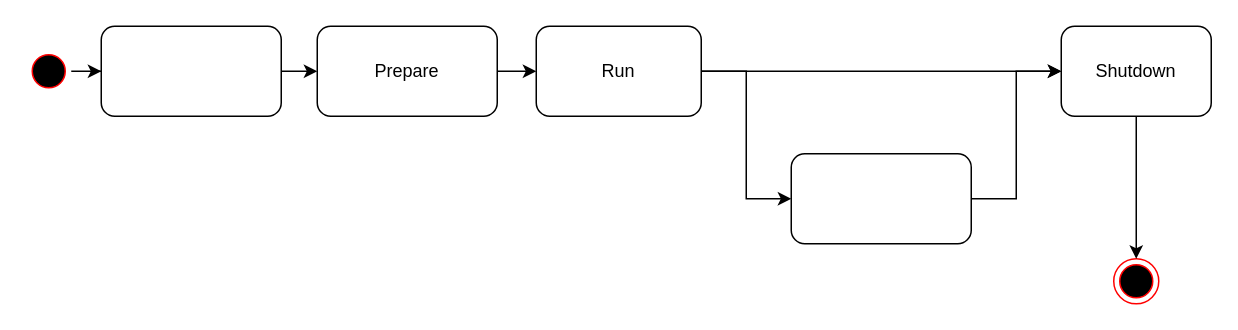
Image size: 1238x330. Some labels were removed from this diagram. The shapes that lost their labels are listed below. From the top down, each one's box as (x1, y1, x2, y2) in pixels, then its label:
(100, 25, 281, 116): Initialize
(790, 152, 971, 244): Emergency (Insufficient Power)
